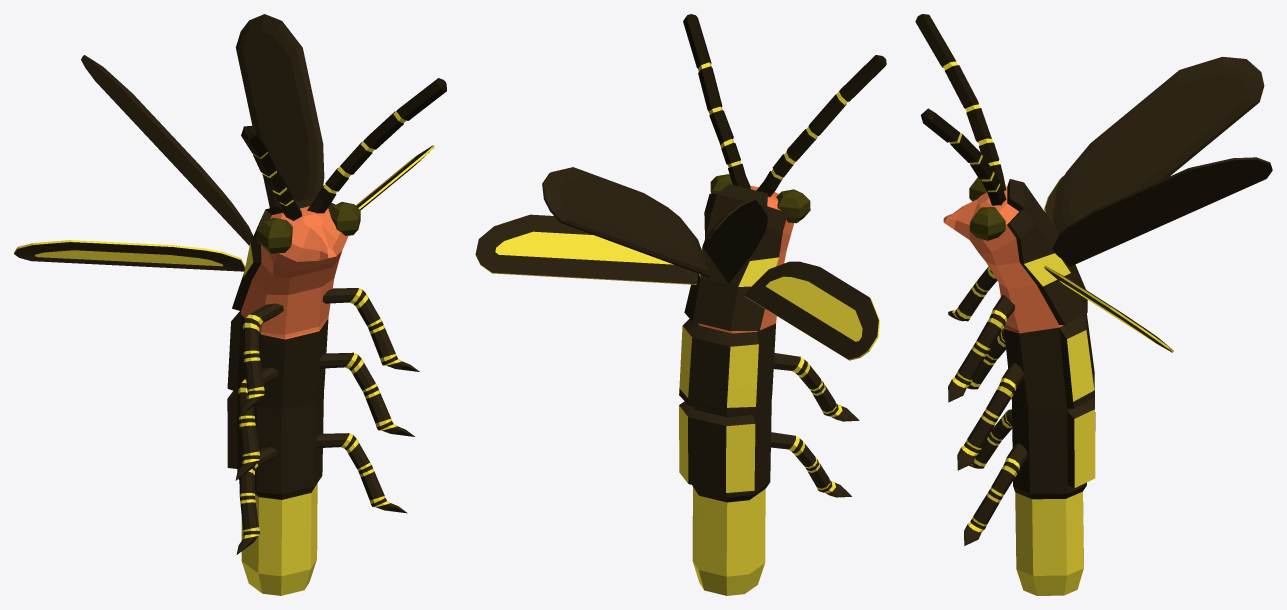
File: Firefly.fbx
The picture shows the model from 3 angles, left to right: view 1: azimuth 30°, elevation 25°; view 2: azimuth 150°, elevation 25°; view 3: azimuth 270°, elevation 25°; orthographic projection. The views are drawn at different scales.
Parts seen in each view (by area): view 1: polySurface5, polySurface1; view 2: polySurface5, polySurface1; view 3: polySurface5, polySurface1.
Boxes of the visible parts, <box> form: polySurface5: <box>81,14,446,595</box>; polySurface1: <box>14,145,434,271</box>; polySurface5: <box>542,14,886,595</box>; polySurface1: <box>475,214,879,360</box>; polySurface5: <box>915,14,1272,595</box>; polySurface1: <box>1044,175,1173,352</box>.
Size of the model in its own units: 122 by 149 by 90.93.
